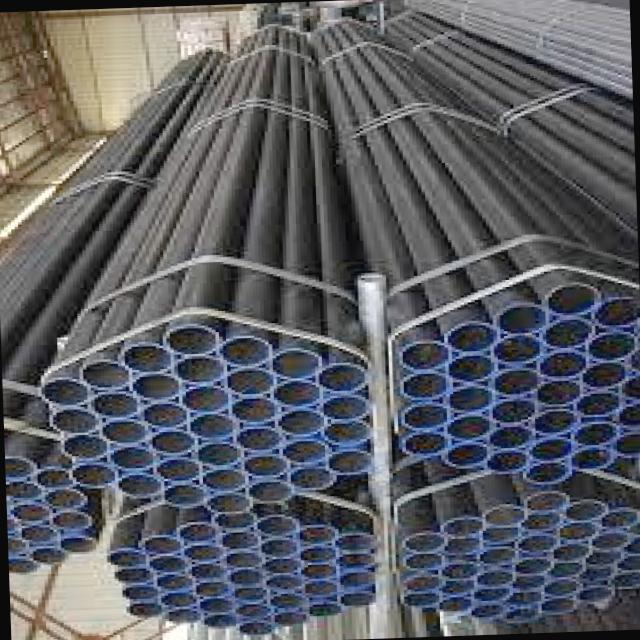gas: (2, 14, 640, 634)
